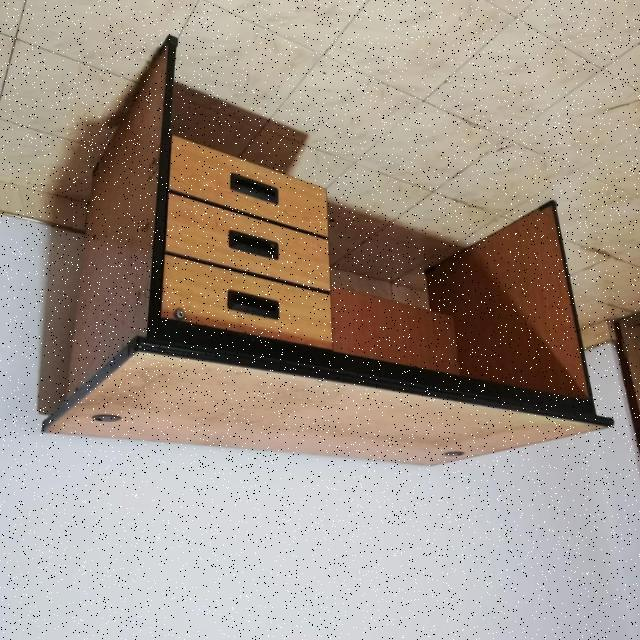mobile-phone: (29, 42, 618, 471)
